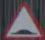Speed Breaker ahead: (3, 1, 41, 39)
